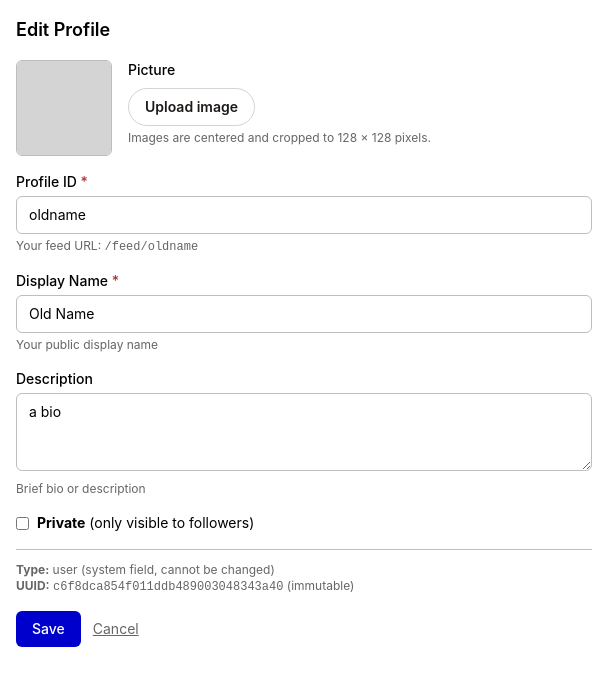
Scenario: ProfileForm › shows the server error message on failure
The width and height of the screenshot is (609, 687).
Replace the text in the field labelled "Profile ID *" with "newname". click: (304, 215)
box: left=16, top=196, right=592, bottom=234
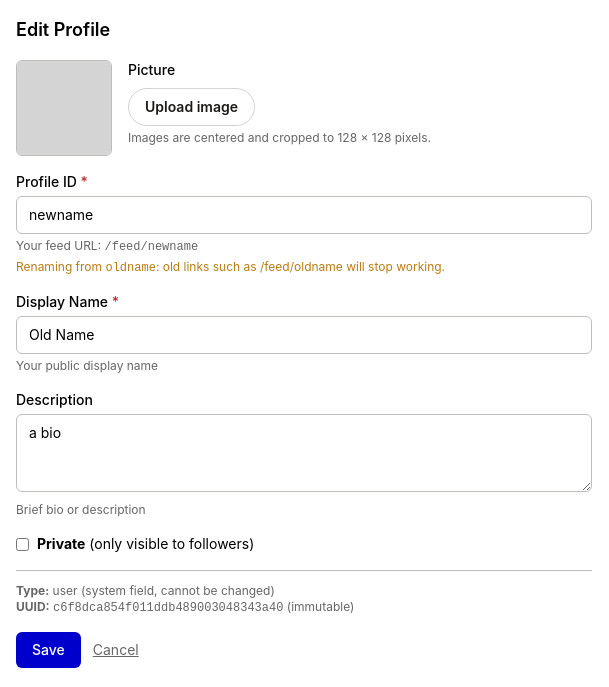
Submit the form
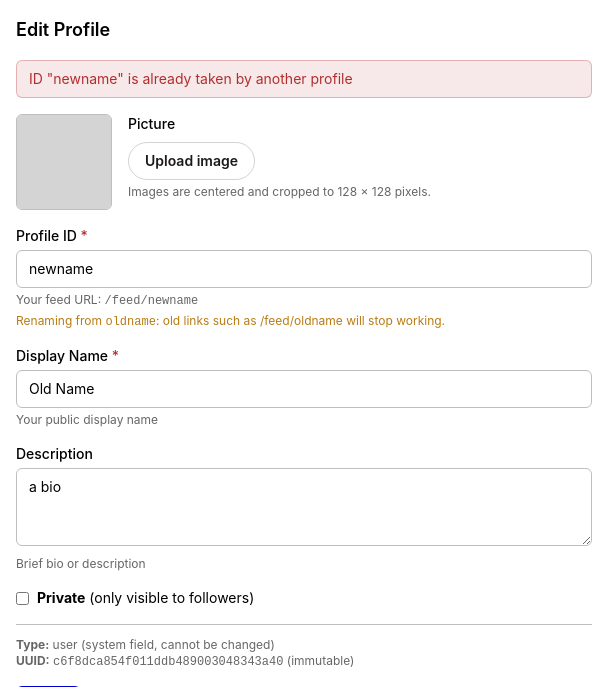
Expected: the message shows "already taken", left=29, top=70, right=353, bottom=87
